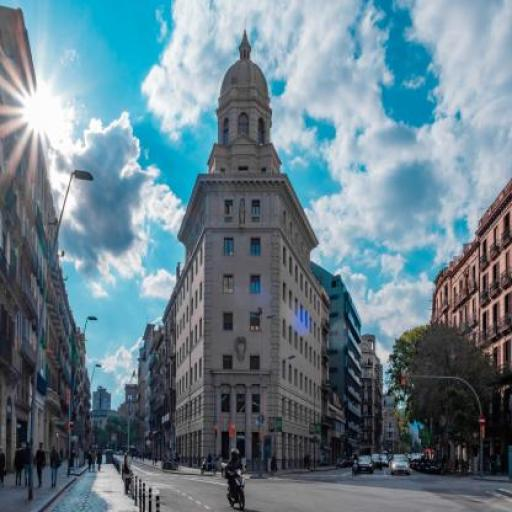street light: (28, 171, 94, 501), (68, 316, 98, 475), (250, 307, 276, 478), (274, 356, 296, 474), (153, 351, 173, 471), (81, 364, 102, 466), (314, 383, 330, 469), (139, 380, 154, 465), (88, 386, 104, 458), (342, 401, 355, 465), (133, 395, 141, 459)
